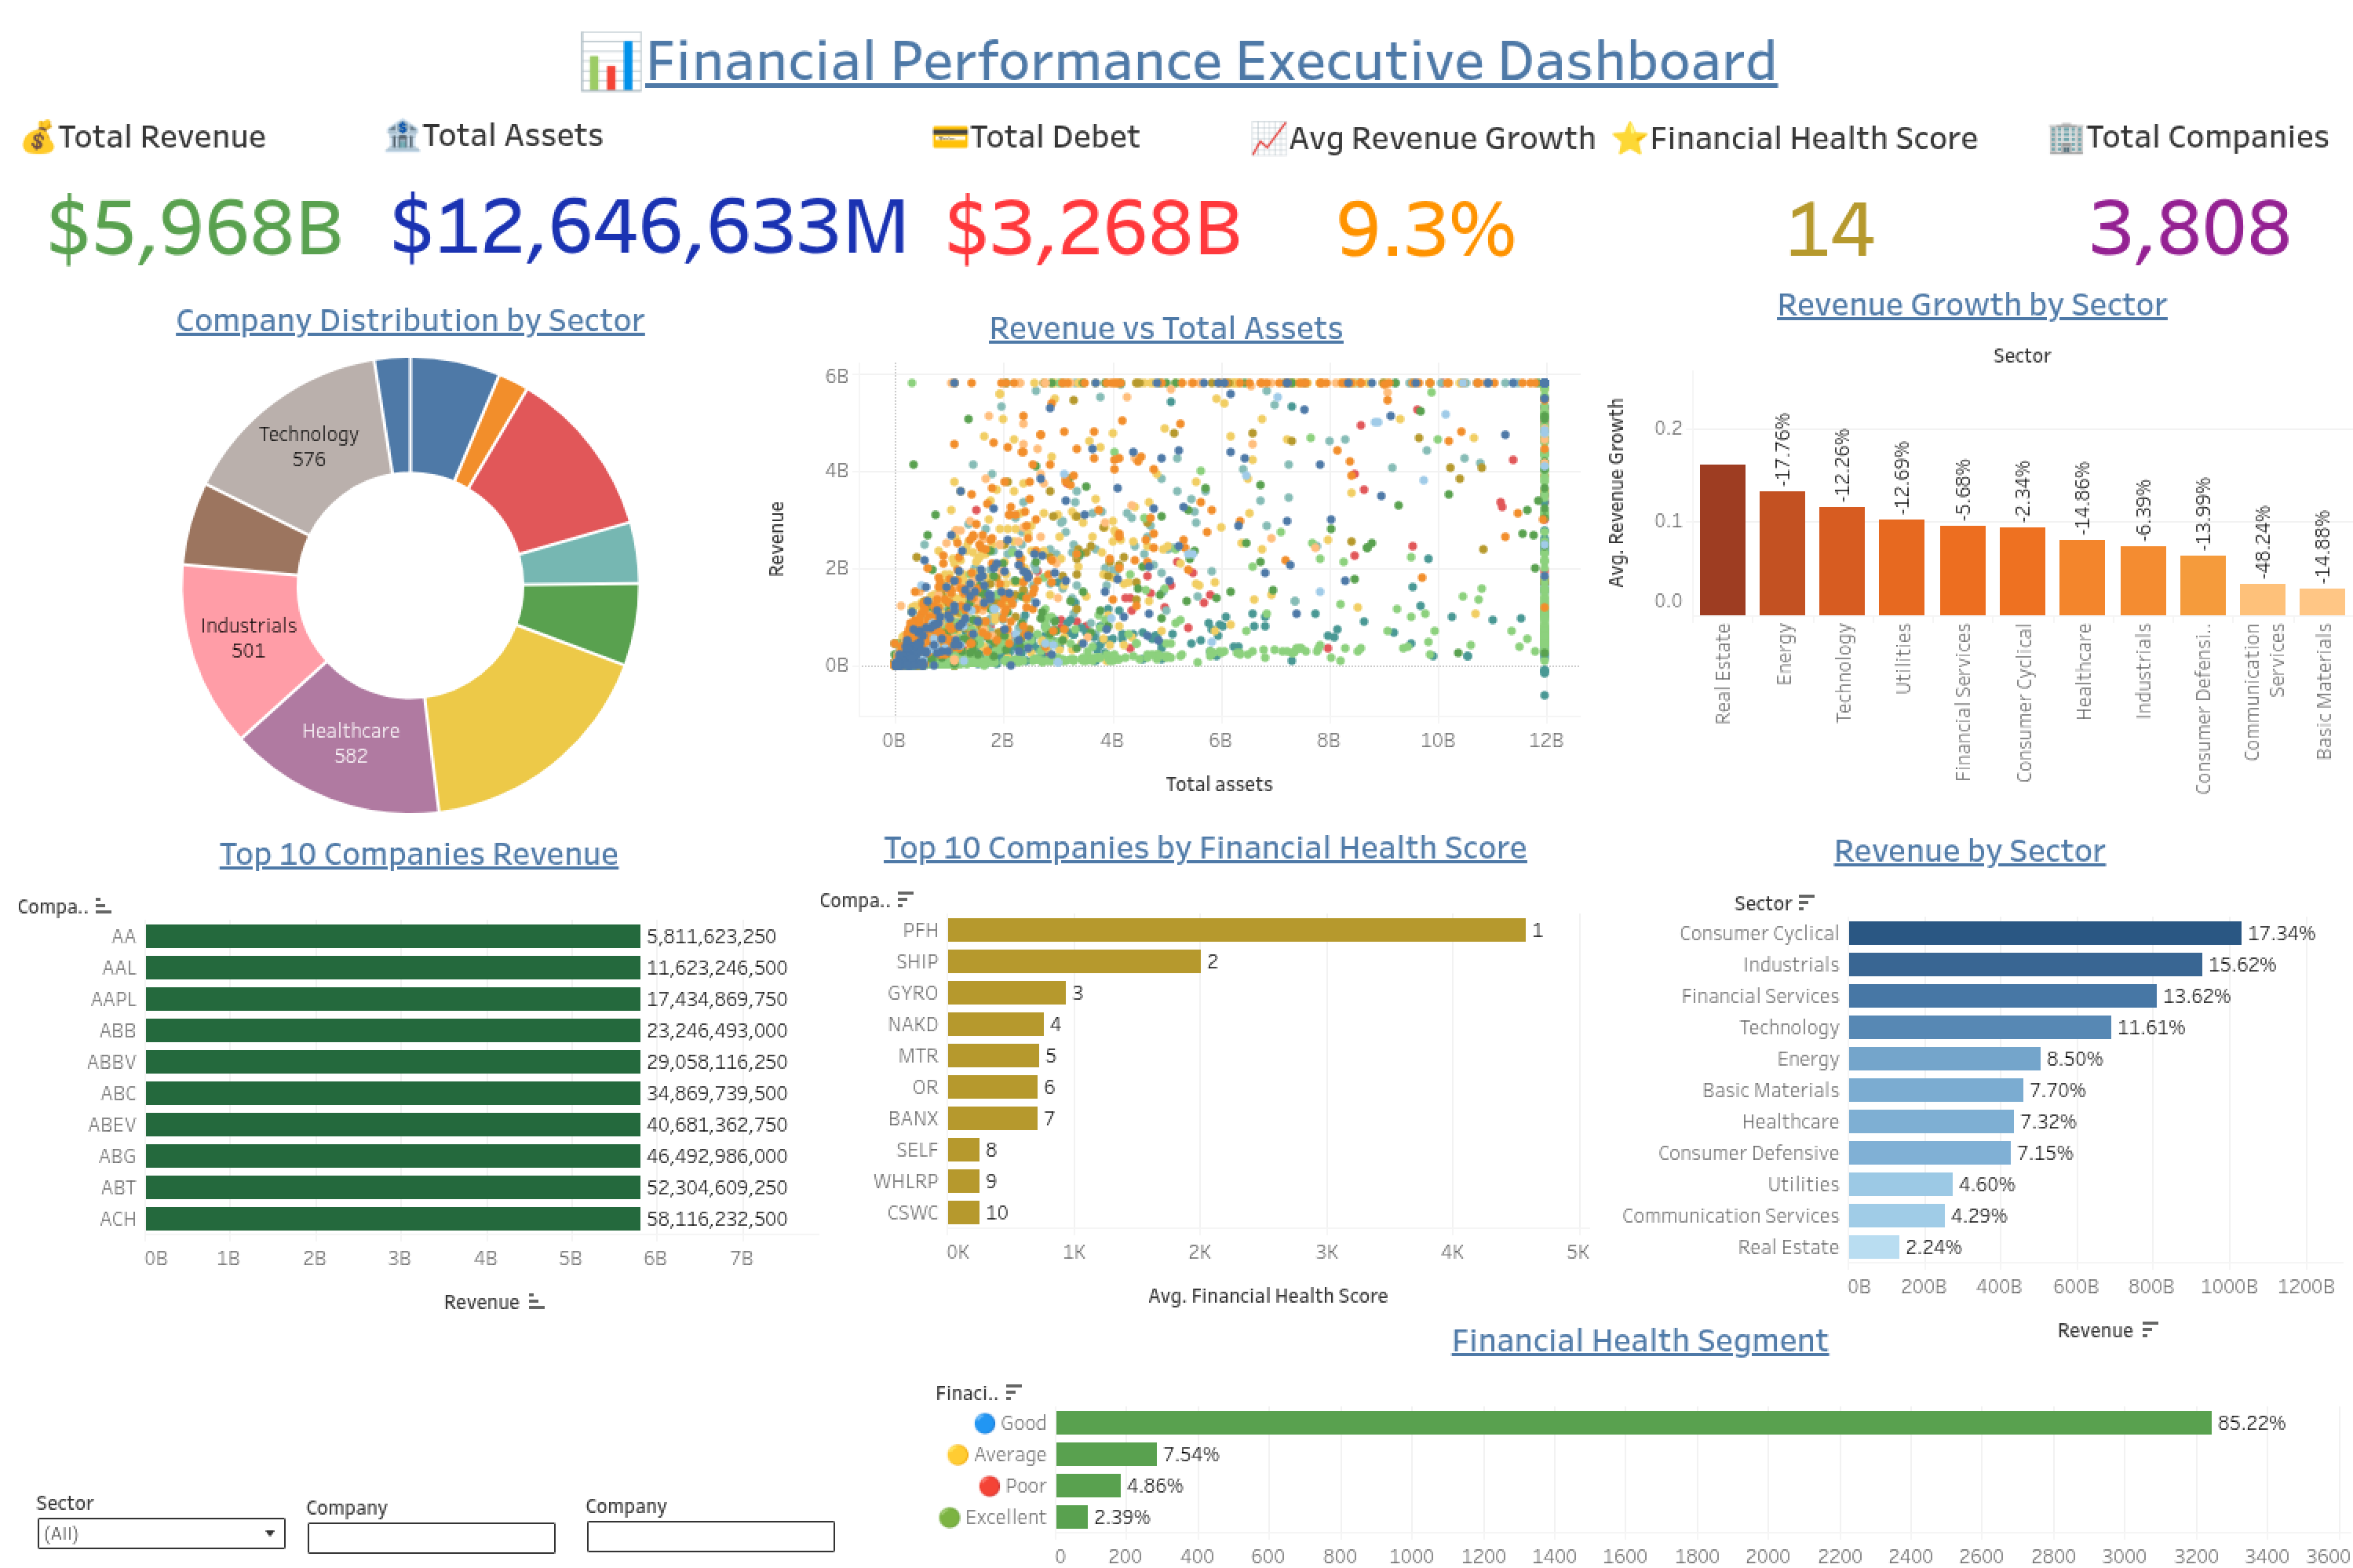

This screenshot's page, from the dashboard's own definition file:
{"tool":"tableau","page":{"name":"Dashboard 1","canvas":[1500,1000],"ordinal":0},"visuals":[{"type":"title","box":[8,8,1484,56]},{"type":"worksheet","title":"Sheet 2","mark":"Automatic","box":[240,65,348,138]},{"type":"worksheet","title":"Sheet 1","mark":"Automatic","box":[8,66,233,138]},{"type":"worksheet","title":"Sheet 3","mark":"Automatic","box":[589,66,207,136]},{"type":"worksheet","title":"Sheet 6","mark":"Automatic","box":[1300,66,191,114]},{"type":"worksheet","title":"Sheet 4","mark":"Automatic","box":[792,67,233,131]},{"type":"worksheet","title":"Sheet 5","mark":"Automatic","box":[1022,67,288,130]},{"type":"worksheet","title":"Sheet 10","mark":"Automatic","rows":["Revenue_Growth"],"cols":["Sector"],"box":[1014,173,485,339]},{"type":"worksheet","title":"Sheet 9","mark":"VizExtension","box":[3,183,517,337]},{"type":"worksheet","title":"Sheet 11","mark":"Circle","rows":["Revenue"],"cols":["Total_assets"],"box":[479,188,528,325]},{"type":"worksheet","title":"Sheet 13","mark":"Automatic","rows":["Company"],"cols":["Financial_Health_Score"],"box":[523,519,490,371]},{"type":"worksheet","title":"Sheet 8","mark":"Automatic","rows":["Sector"],"cols":["Revenue"],"box":[1017,521,476,357]},{"type":"worksheet","title":"Sheet 7","mark":"Automatic","rows":["Company"],"cols":["Revenue"],"box":[12,523,510,342]},{"type":"filter","title":"Sheet 11","param":"[federated.0whws2y10h24i21ds7m2n11v9x3l].[none:Sector:nk]","box":[23,948,160,44]},{"type":"filter","title":"Sheet 7","param":"[federated.0whws2y10h24i21ds7m2n11v9x3l].[none:Company:nk]","box":[373,950,160,48]},{"type":"filter","title":"Sheet 13","param":"[federated.0whws2y10h24i21ds7m2n11v9x3l].[none:Company:nk]","box":[195,951,160,48]}]}

Visuals, with their boxes in screenshot pixels (x1, y1, x2, y2), scaled from the page's 1500x1000 canvas onto the 2353x1568 screenshot:
title: locate(13, 13, 2340, 100)
"Sheet 2" worksheet: locate(377, 102, 922, 319)
"Sheet 1" worksheet: locate(13, 104, 378, 320)
"Sheet 3" worksheet: locate(924, 104, 1249, 317)
"Sheet 6" worksheet: locate(2039, 104, 2339, 283)
"Sheet 4" worksheet: locate(1242, 105, 1608, 311)
"Sheet 5" worksheet: locate(1603, 105, 2055, 309)
"Sheet 10" worksheet: locate(1591, 272, 2351, 803)
"Sheet 9" worksheet (VizExtension marks): locate(5, 287, 815, 815)
"Sheet 11" worksheet (Circle marks): locate(751, 295, 1580, 804)
"Sheet 13" worksheet: locate(820, 814, 1589, 1395)
"Sheet 8" worksheet: locate(1596, 817, 2342, 1377)
"Sheet 7" worksheet: locate(19, 820, 819, 1356)
"Sheet 11" filter: locate(36, 1486, 287, 1555)
"Sheet 7" filter: locate(586, 1490, 836, 1565)
"Sheet 13" filter: locate(306, 1491, 557, 1566)
